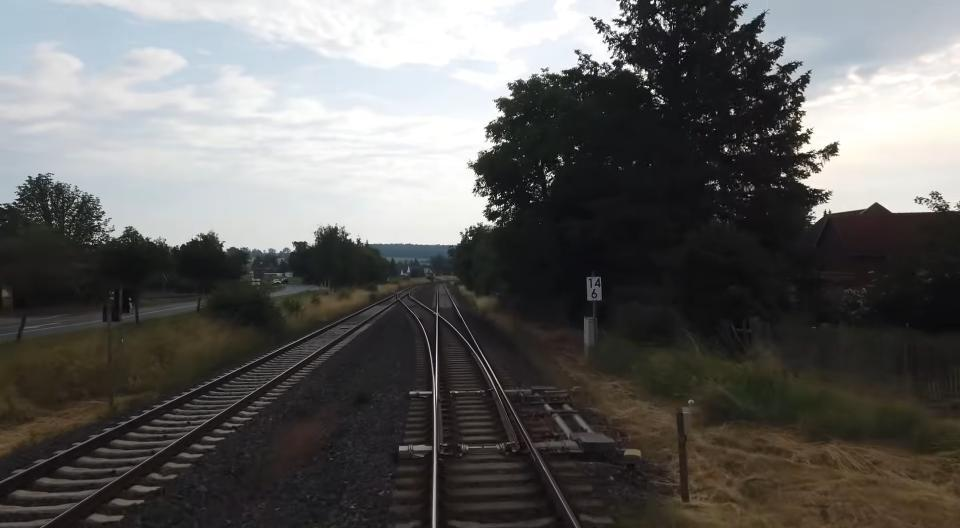Plant: (282, 419, 326, 455)
